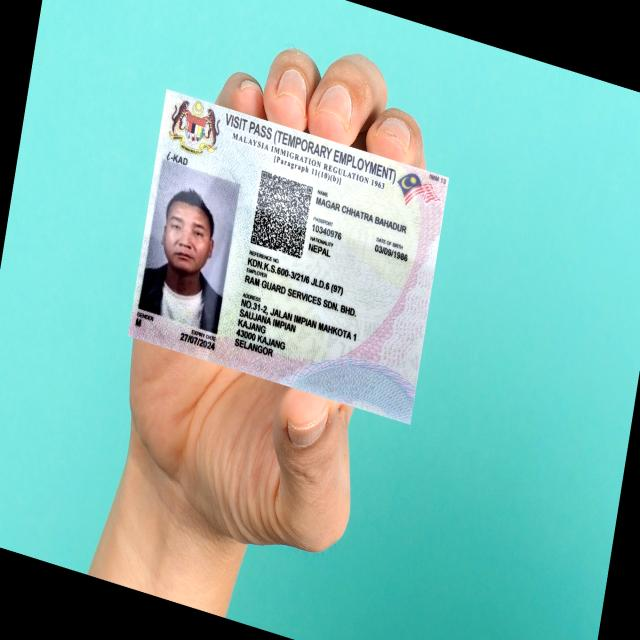ikad-temp: (128, 87, 450, 426)
